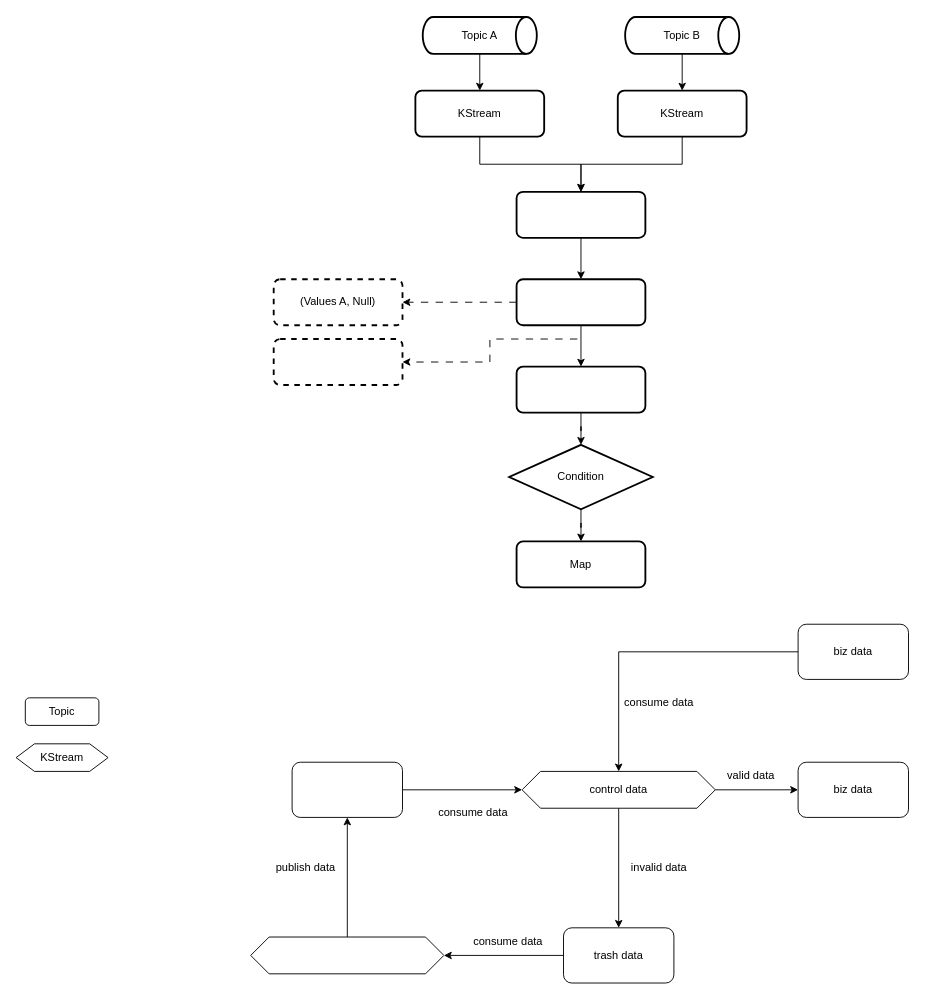
Some shapes in this 925 by 999 pixel diagram are drawn without their labels. The shapes that lost their labels are listed below. From the top down, each one's box as (x1, y1, x2, y2) in pixels, then its label:
(515, 190, 646, 238): Merged
(515, 278, 646, 326): Aggregated (tuple)
(272, 338, 403, 385): (Values A, Values B)
(515, 365, 646, 413): Filter
(291, 761, 402, 817): raw data B
(250, 936, 444, 974): date reprocess
